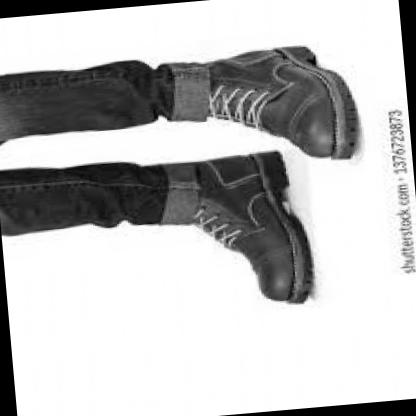ankle: (200, 180, 211, 185), (222, 65, 230, 70)
heel: (253, 164, 265, 171), (275, 51, 284, 54)
left_foot: (195, 44, 356, 167)
pinky: (313, 106, 322, 114), (260, 290, 266, 295)
right_foot: (164, 157, 314, 314)
toe: (277, 275, 284, 282), (308, 150, 314, 155)
